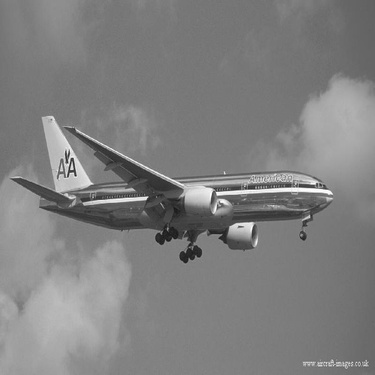airplane: (7, 96, 340, 272)
